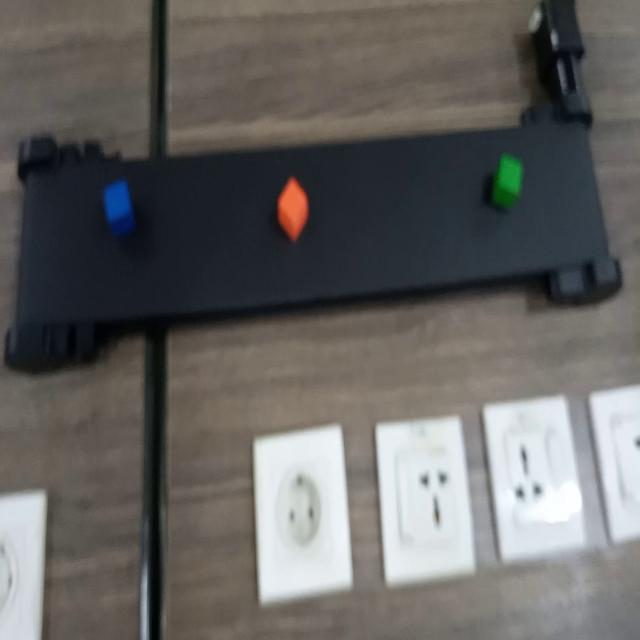cube: (486, 144, 534, 213), (101, 174, 140, 241)
